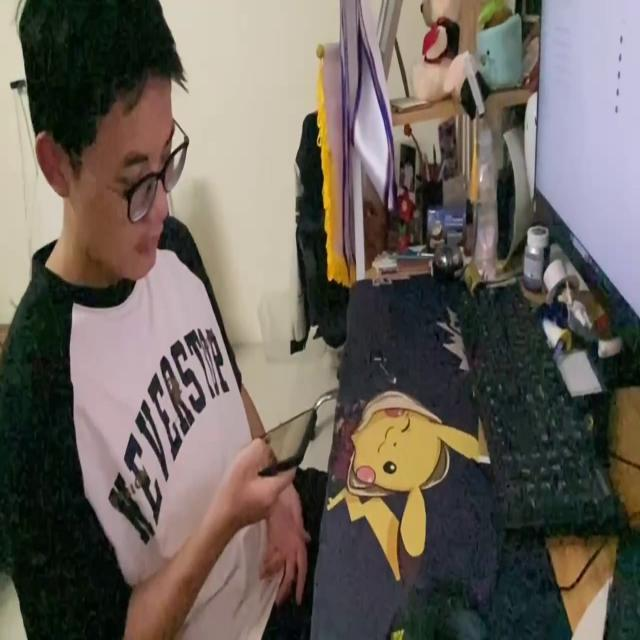laptop: (531, 0, 640, 366)
phone: (241, 404, 316, 473)
student: (1, 0, 317, 640)
